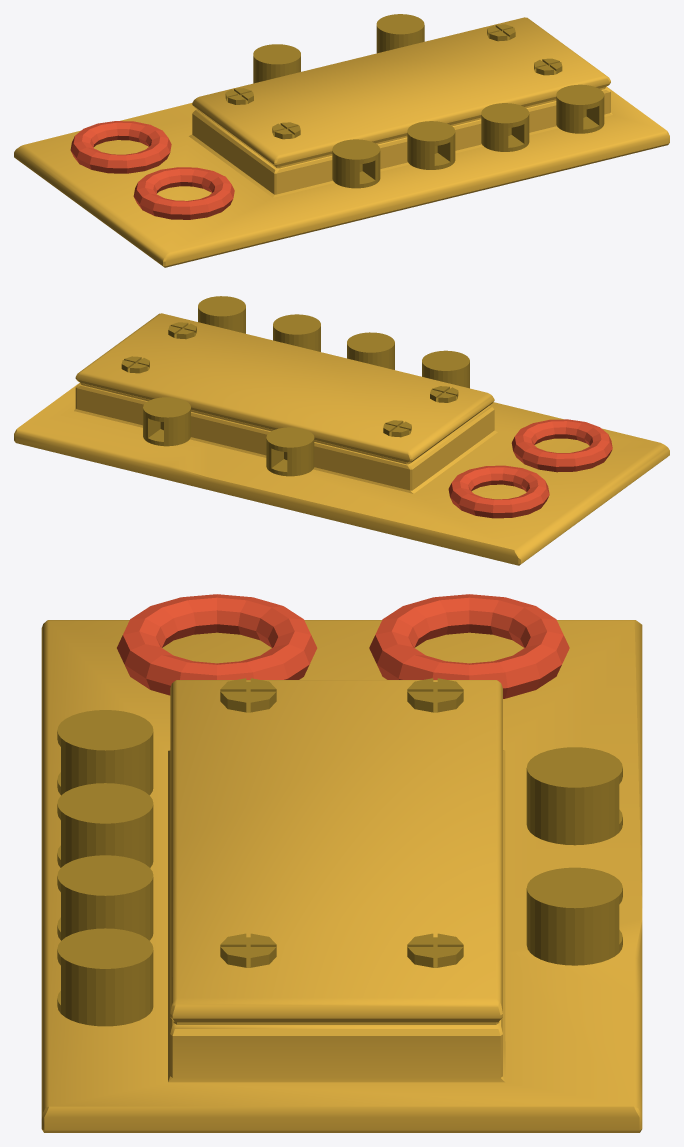
Rendered from Fuse Piece Long.fbx.
The picture shows the model from 3 angles, top to bottom: view 1: azimuth 30°, elevation 25°; view 2: azimuth 150°, elevation 25°; view 3: azimuth 270°, elevation 25°; orthographic projection. The views are drawn at different scales.
Visible parts, largest first — view 1: SWITCH, SWITCH.003, SWITCH.002, SWITCH.001; view 2: SWITCH, SWITCH.003, SWITCH.002, SWITCH.001; view 3: SWITCH, SWITCH.003, SWITCH.002, SWITCH.001.
Part boxes in pixels (box(x1,y1,x2,y2)): SWITCH: box(14, 17, 669, 267); SWITCH.003: box(253, 14, 604, 188); SWITCH.002: box(70, 121, 234, 219); SWITCH.001: box(225, 24, 562, 139); SWITCH: box(14, 313, 669, 565); SWITCH.003: box(143, 296, 469, 476); SWITCH.002: box(448, 419, 612, 518); SWITCH.001: box(121, 322, 458, 437); SWITCH: box(41, 620, 642, 1132); SWITCH.003: box(57, 710, 622, 1026); SWITCH.002: box(117, 594, 569, 698); SWITCH.001: box(220, 678, 463, 967).
Size of the model in its own units: 353 by 39.87 by 181.
